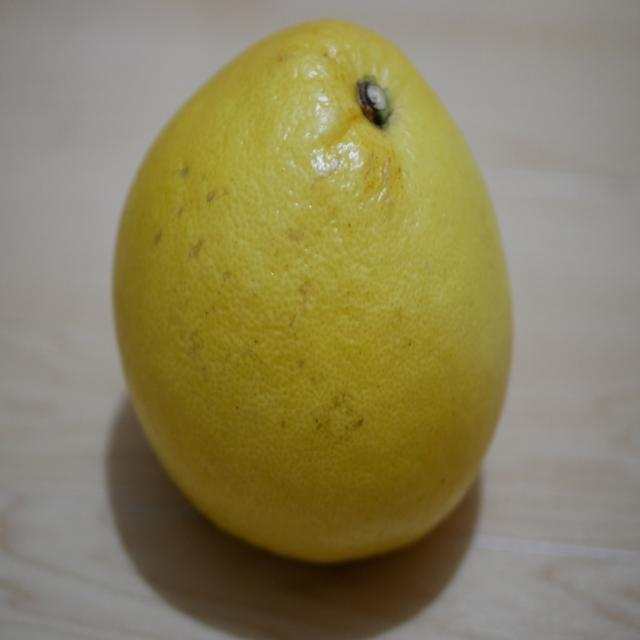Orange: (112, 17, 517, 561)
